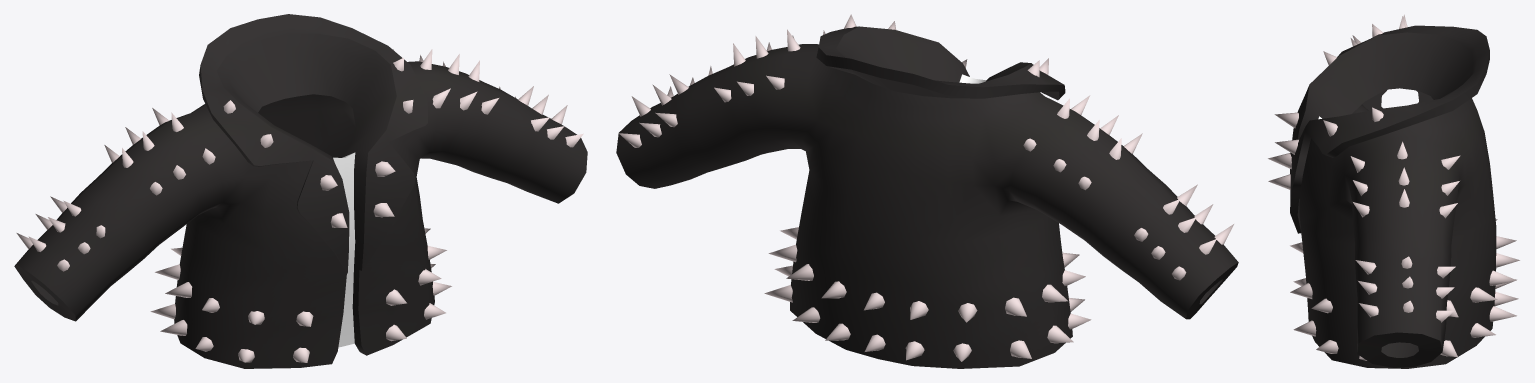
The model's file is Outwear_16.glb.
3 renders of one model, left to right at view 1: azimuth 30°, elevation 25°; view 2: azimuth 150°, elevation 25°; view 3: azimuth 270°, elevation 25°, orthographic. The views are drawn at different scales.
Parts seen in each view (by area): view 1: Outwear_16; view 2: Outwear_16; view 3: Outwear_16.
Boxes of the visible parts, bbox=[...] form: Outwear_16: bbox=[14, 14, 587, 368]; Outwear_16: bbox=[616, 14, 1238, 368]; Outwear_16: bbox=[1268, 14, 1519, 368].
Bounding box in the file's own units: 0.6357 × 0.3008 × 0.2552.
Materials: 1 (1 with a texture image).
